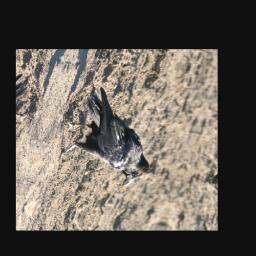Crow: (45, 83, 176, 191)
